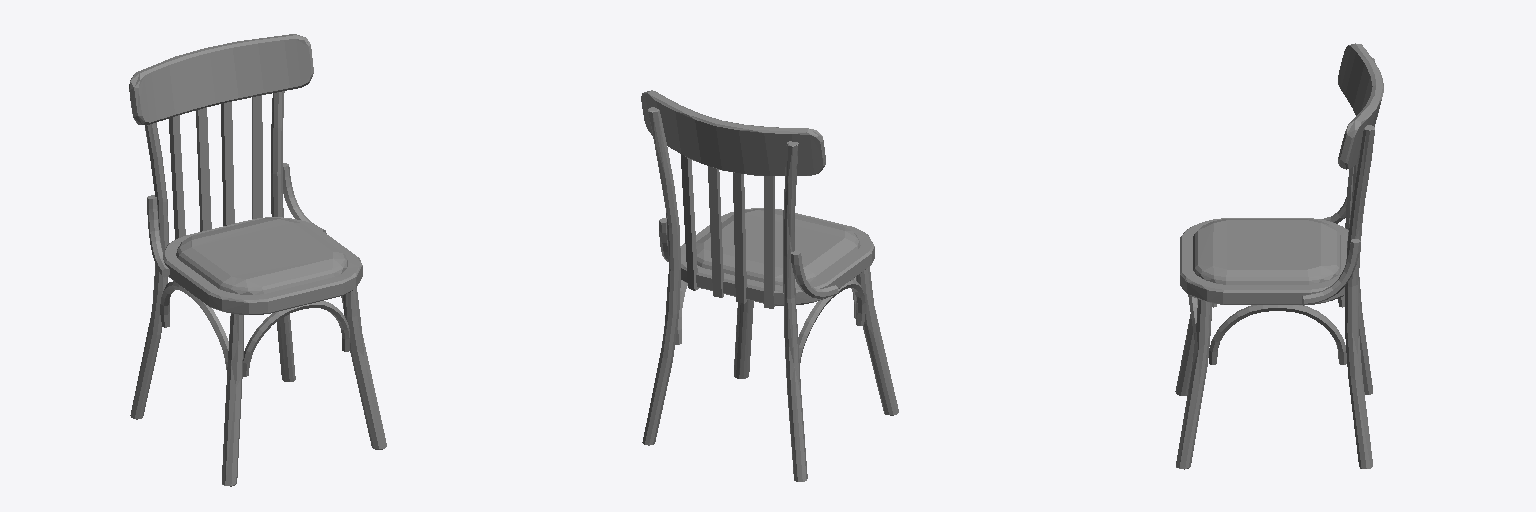
File: old_chair.obj
3 views of the same model, side by side, from view 1: azimuth 30°, elevation 25°; view 2: azimuth 150°, elevation 25°; view 3: azimuth 270°, elevation 25° (orthographic).
Parts seen in each view (by area): view 1: Chair; view 2: Chair; view 3: Chair.
Part boxes in pixels (bbox=[...]): Chair: bbox=[129, 34, 386, 486]; Chair: bbox=[641, 90, 898, 481]; Chair: bbox=[1175, 43, 1383, 469].
Size of the model in its own units: 56.31 by 104 by 56.41.